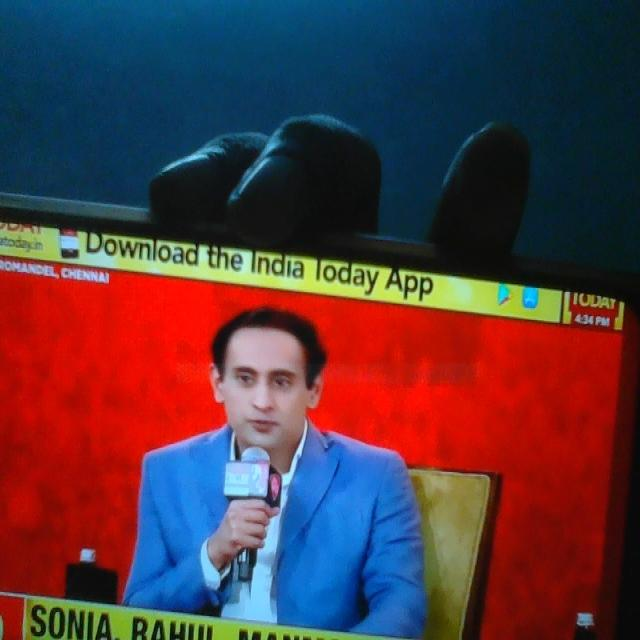fake: (217, 286, 321, 482)
